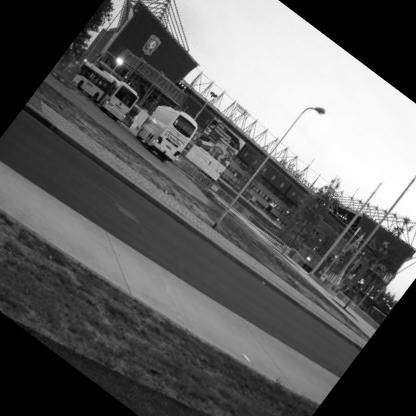bus: (64, 52, 145, 128), (129, 93, 207, 171)
